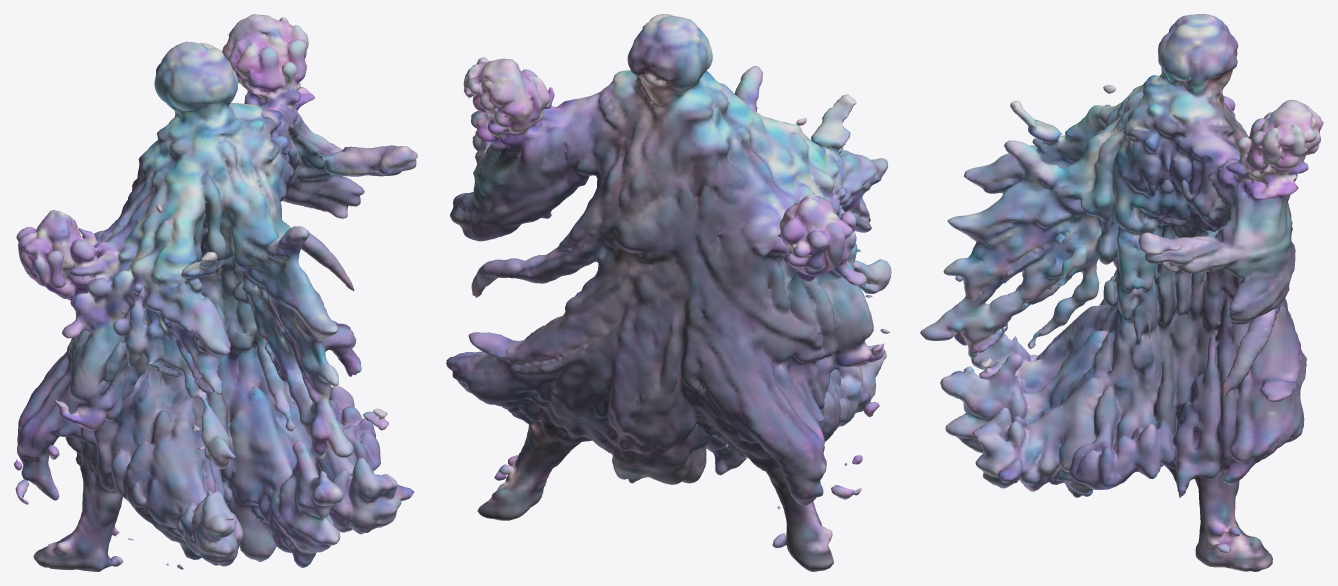
Rendered from dingchao-p1.glb.
3 views of the same model, side by side, from view 1: azimuth 30°, elevation 25°; view 2: azimuth 150°, elevation 25°; view 3: azimuth 270°, elevation 25° (orthographic). The views are drawn at different scales.
Visible parts, largest first — view 1: dingchao-p1; view 2: dingchao-p1; view 3: dingchao-p1.
Boxes of the visible parts, x1,y1,x2,y2 form: dingchao-p1: (14,14,417,571); dingchao-p1: (446,14,891,571); dingchao-p1: (920,14,1323,571).
Bounding box in the file's own units: 1.36 × 1.67 × 1.26.
